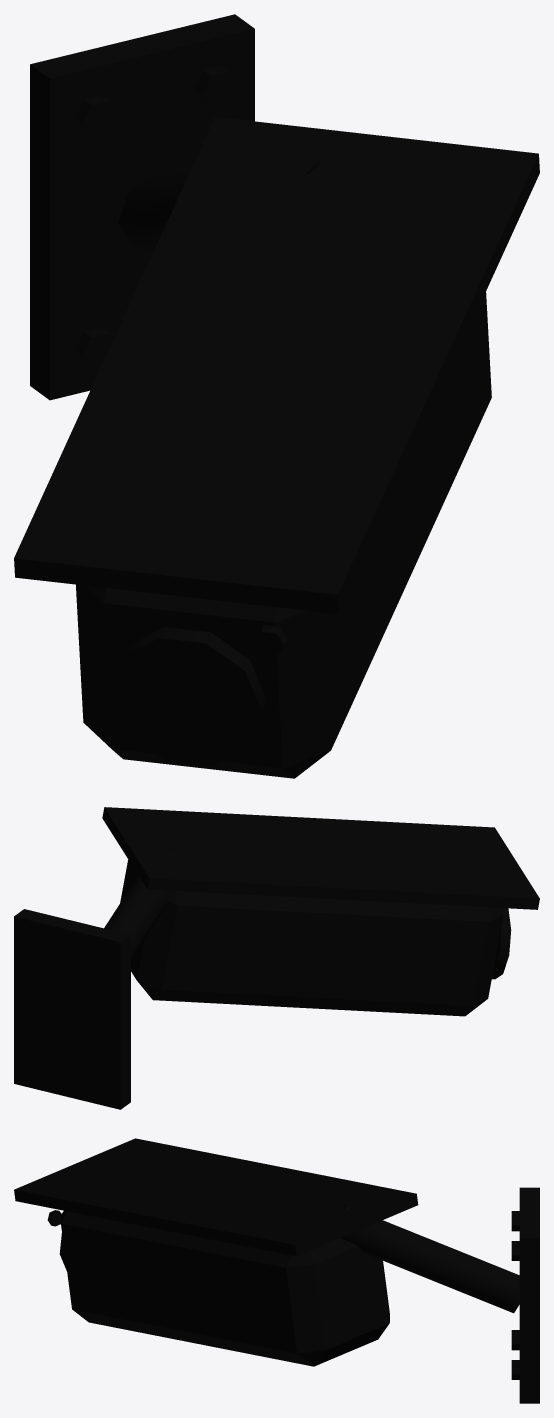
File: cctv_prison_target.fbx
3 renders of one model, top to bottom at view 1: azimuth 30°, elevation 25°; view 2: azimuth 150°, elevation 25°; view 3: azimuth 270°, elevation 25°, orthographic. The views are drawn at different scales.
Visible parts, largest first — view 1: cctv_prison_head, cctv_prison; view 2: cctv_prison_head, cctv_prison; view 3: cctv_prison_head, cctv_prison.
Boxes of the visible parts, x1,y1,x2,y2 form: cctv_prison_head: (14, 117, 539, 778); cctv_prison: (30, 14, 333, 400); cctv_prison_head: (102, 807, 539, 1016); cctv_prison: (14, 849, 178, 1109); cctv_prison_head: (14, 1138, 418, 1366); cctv_prison: (341, 1187, 539, 1403).
Size of the model in its own units: 0.4002 by 0.2063 by 0.5207.
